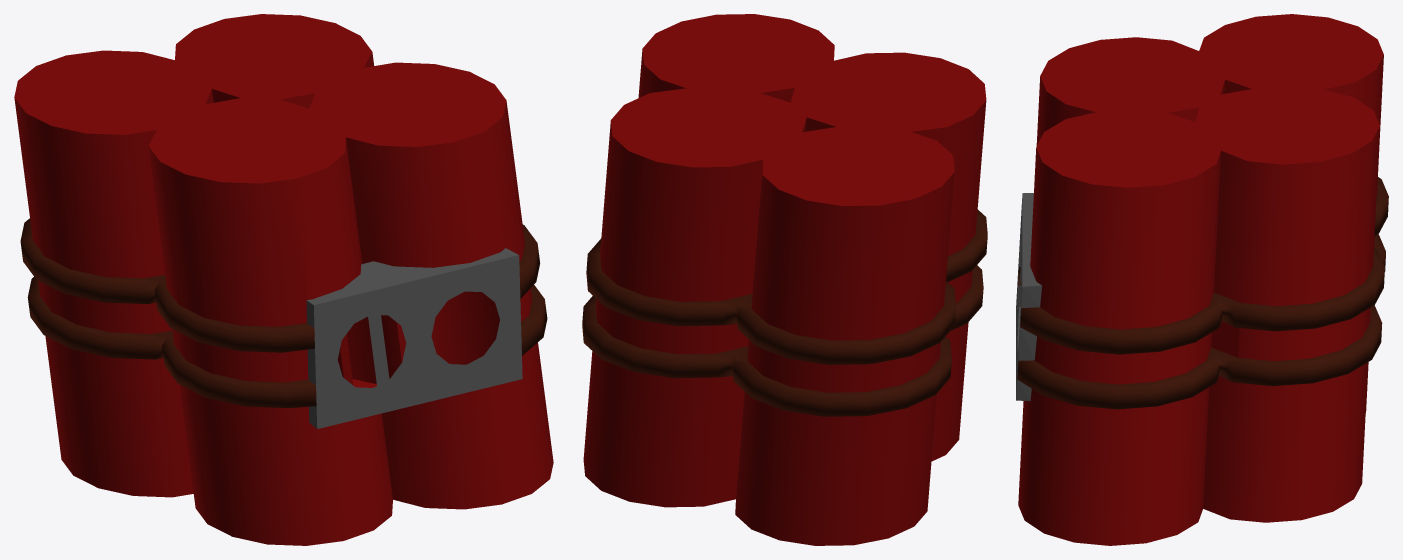
File: tickbomb.sapphire.obj
3 views of the same model, side by side, from view 1: azimuth 30°, elevation 25°; view 2: azimuth 150°, elevation 25°; view 3: azimuth 270°, elevation 25° (orthographic). The views are drawn at different scales.
Parts seen in each view (by area): view 1: Bomb_Cylinder; view 2: Bomb_Cylinder; view 3: Bomb_Cylinder.
Boxes of the visible parts, bbox=[...] form: Bomb_Cylinder: bbox=[14, 14, 553, 545]; Bomb_Cylinder: bbox=[582, 14, 987, 545]; Bomb_Cylinder: bbox=[1016, 14, 1388, 545].
Bounding box in the file's own units: 0.986 × 0.8208 × 0.8134.
